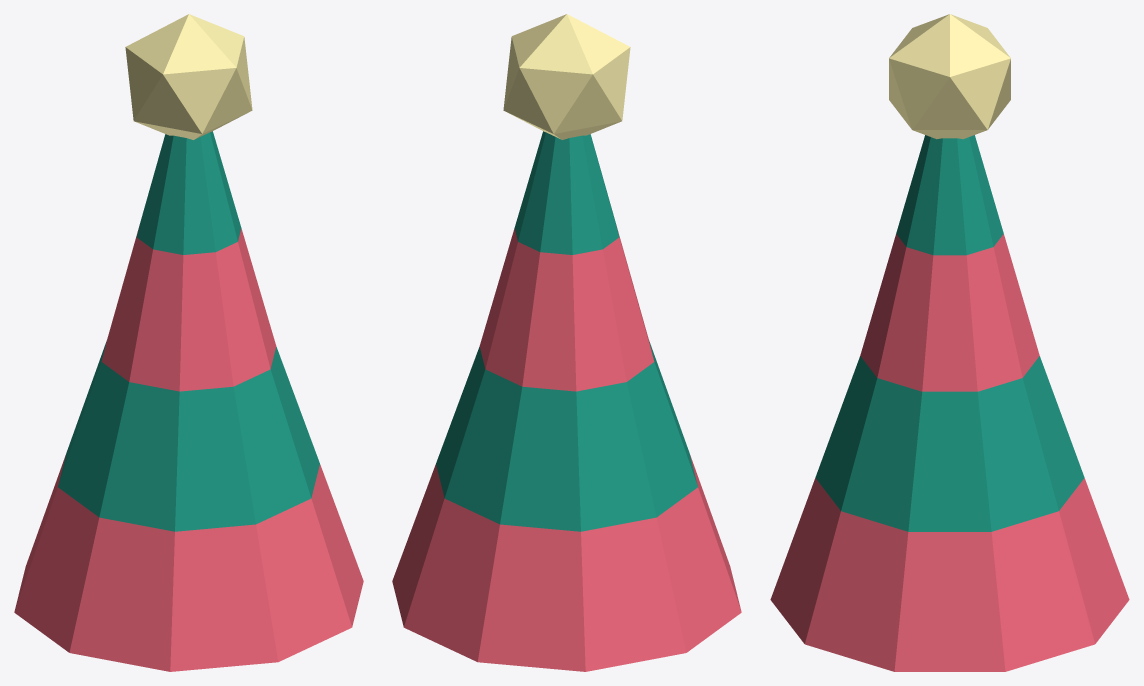
File: CatCafe_Accessory_PartyHat.glb
The picture shows the model from 3 angles, left to right: view 1: azimuth 30°, elevation 25°; view 2: azimuth 150°, elevation 25°; view 3: azimuth 270°, elevation 25°; orthographic projection.
Visible parts, largest first — view 1: CatCafe_Accessory_PartyHat; view 2: CatCafe_Accessory_PartyHat; view 3: CatCafe_Accessory_PartyHat.
Boxes of the visible parts, left/top/right/bottom form: CatCafe_Accessory_PartyHat: left=14, top=14, right=363, bottom=671; CatCafe_Accessory_PartyHat: left=392, top=14, right=741, bottom=671; CatCafe_Accessory_PartyHat: left=770, top=14, right=1129, bottom=671.
Bounding box in the file's own units: 0.3804 × 0.72 × 0.4.
Materials: 1 (1 with a texture image).
